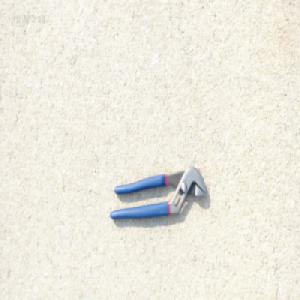Pliers: (108, 164, 208, 219)
